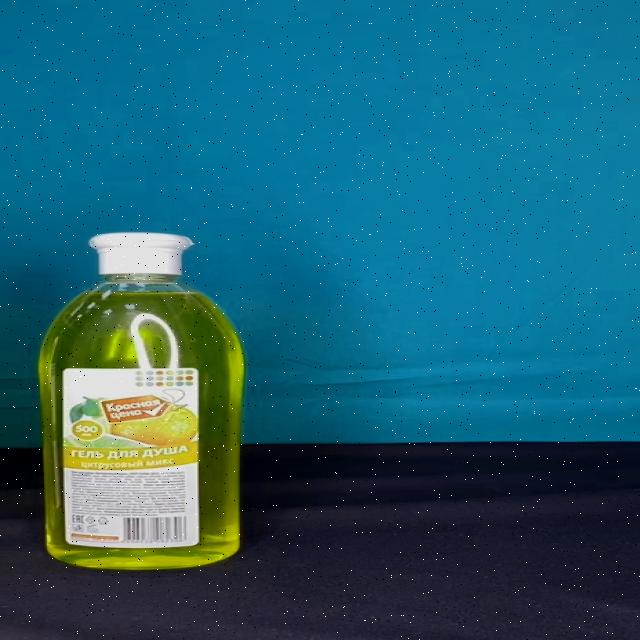Bottle: (37, 233, 247, 570)
Cap: (89, 233, 193, 276)
